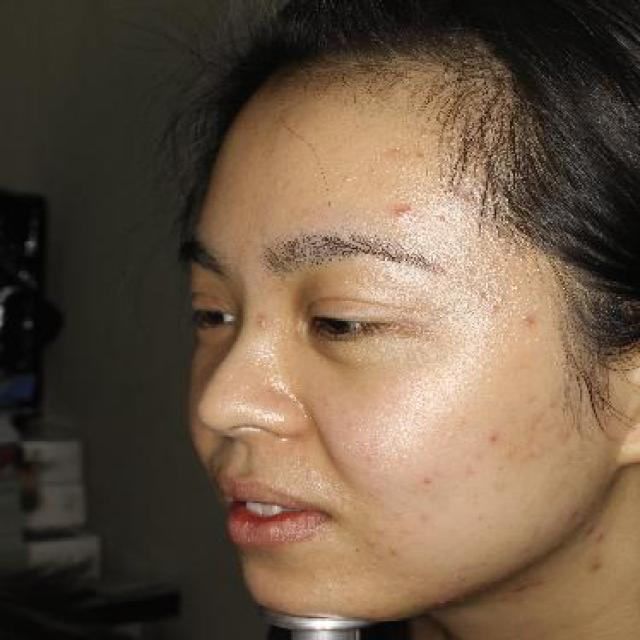Acne: (387, 197, 422, 228), (246, 308, 274, 332)
Blackheads: (481, 428, 503, 449)
Whiteheads: (429, 208, 458, 230)
